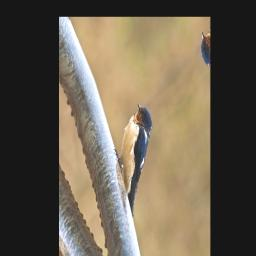Swallow: (105, 95, 172, 218)
